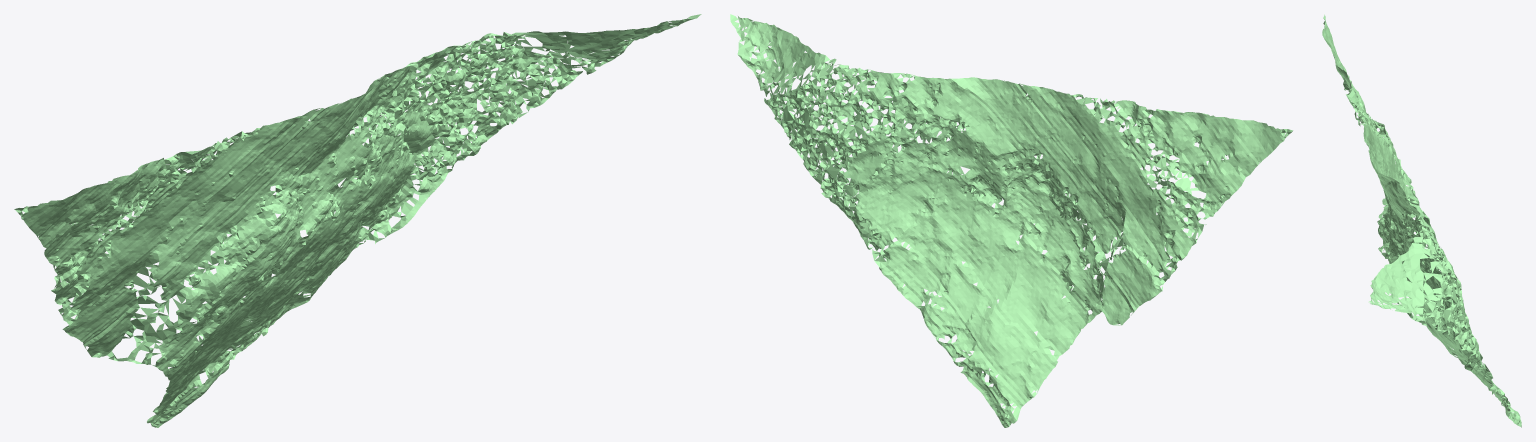
Rendered from test2_renderback_colorgreen.glb.
3 views of the same model, side by side, from view 1: azimuth 30°, elevation 25°; view 2: azimuth 150°, elevation 25°; view 3: azimuth 270°, elevation 25° (orthographic). The views are drawn at different scales.
Size of the model in its own units: 113 by 55.75 by 32.8.
